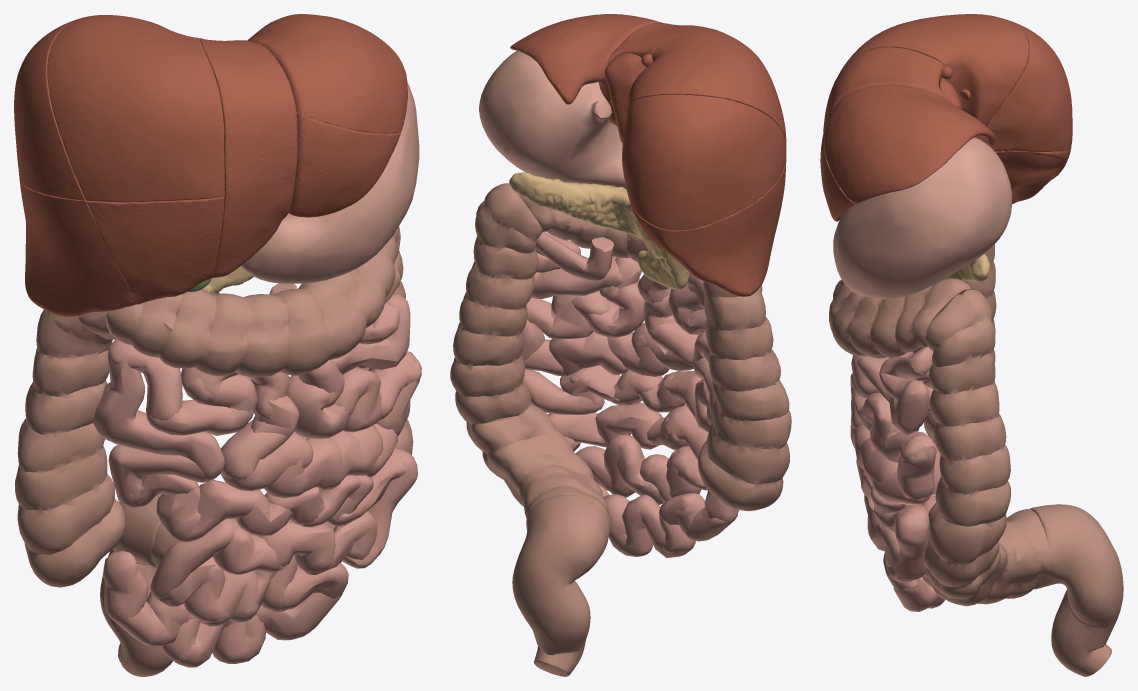
File: digestive-surgery.glb
3 views of the same model, side by side, from view 1: azimuth 30°, elevation 25°; view 2: azimuth 150°, elevation 25°; view 3: azimuth 270°, elevation 25° (orthographic). The views are drawn at different scales.
Parts seen in each view (by area): view 1: FJ1883 · physical anatomical entity; FJ1893 · left portal ve, FJ2574 · zone of small intestine; FJ2575 · zone of small int, FJ2566 · segment of large intestine; FJ2567 · segment of lar, FJ2564 · stomach, FJ1895 · pancreas; view 2: FJ2566 · segment of large intestine; FJ2567 · segment of lar, FJ2574 · zone of small intestine; FJ2575 · zone of small int, FJ1883 · physical anatomical entity; FJ1893 · left portal ve, FJ2564 · stomach, FJ1895 · pancreas; view 3: FJ2566 · segment of large intestine; FJ2567 · segment of lar, FJ1883 · physical anatomical entity; FJ1893 · left portal ve, FJ2564 · stomach, FJ2574 · zone of small intestine; FJ2575 · zone of small int, FJ1895 · pancreas.
Part boxes in pixels (box(x1,y1,x2,y2)): FJ1883 · physical anatomical entity; FJ1893 · left portal ve: box(14, 14, 407, 316); FJ2574 · zone of small intestine; FJ2575 · zone of small int: box(93, 265, 421, 667); FJ2566 · segment of large intestine; FJ2567 · segment of lar: box(15, 226, 413, 676); FJ2564 · stomach: box(240, 82, 419, 283); FJ1895 · pancreas: box(202, 266, 253, 295); FJ2566 · segment of large intestine; FJ2567 · segment of lar: box(450, 183, 791, 676); FJ2574 · zone of small intestine; FJ2575 · zone of small int: box(521, 232, 739, 557); FJ1883 · physical anatomical entity; FJ1893 · left portal ve: box(510, 14, 786, 296); FJ2564 · stomach: box(479, 50, 626, 189); FJ1895 · pancreas: box(509, 172, 689, 289); FJ2566 · segment of large intestine; FJ2567 · segment of lar: box(829, 244, 1123, 676); FJ1883 · physical anatomical entity; FJ1893 · left portal ve: box(820, 14, 1072, 221); FJ2564 · stomach: box(833, 137, 1012, 299); FJ2574 · zone of small intestine; FJ2575 · zone of small int: box(850, 346, 944, 611); FJ1895 · pancreas: box(943, 254, 989, 282).
Size of the model in its own units: 1.92 by 3.35 by 1.5.
